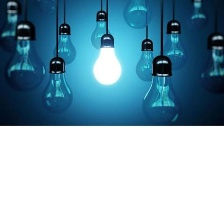light_bulb: (139, 53, 184, 126), (3, 21, 45, 93), (40, 56, 75, 114), (195, 30, 223, 98), (155, 17, 190, 70), (90, 32, 123, 86), (47, 22, 80, 67), (0, 2, 27, 52), (86, 8, 116, 52), (134, 38, 160, 80), (121, 0, 154, 31), (185, 0, 211, 35)
